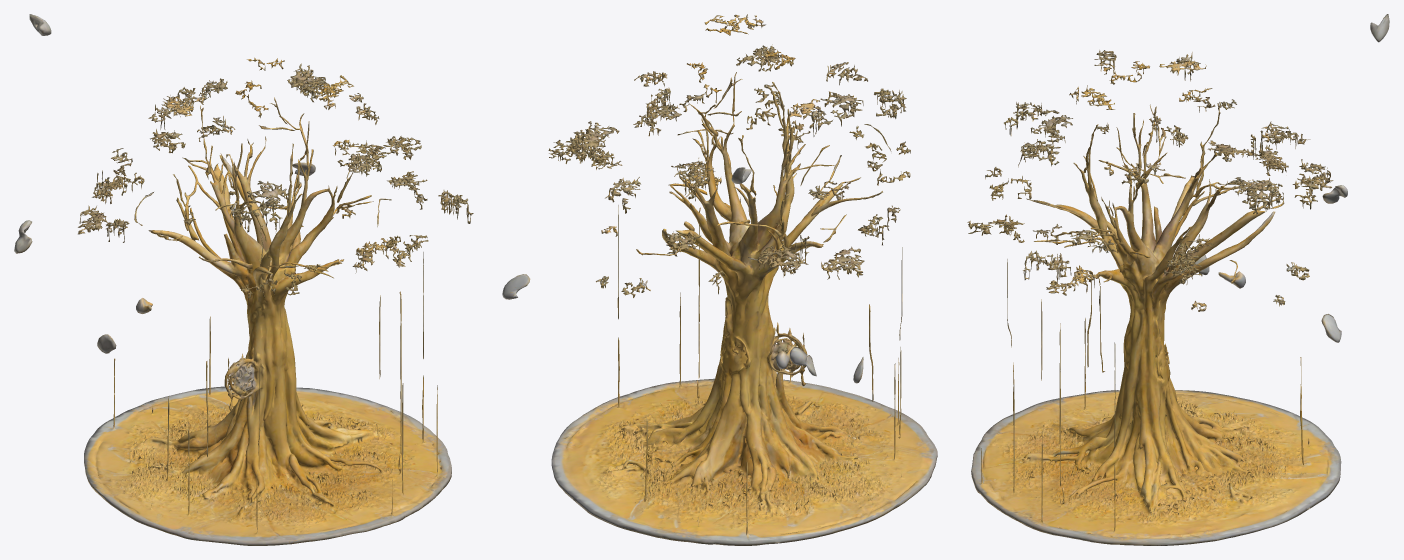
The model's file is Meshy_AI_Enchanted_Luminescenc_1115232827_texture.glb.
3 views of the same model, side by side, from view 1: azimuth 30°, elevation 25°; view 2: azimuth 150°, elevation 25°; view 3: azimuth 270°, elevation 25° (orthographic). The views are drawn at different scales.
Bounding box in the file's own units: 1.71 × 1.97 × 1.89.
1 material, 1 textured.
